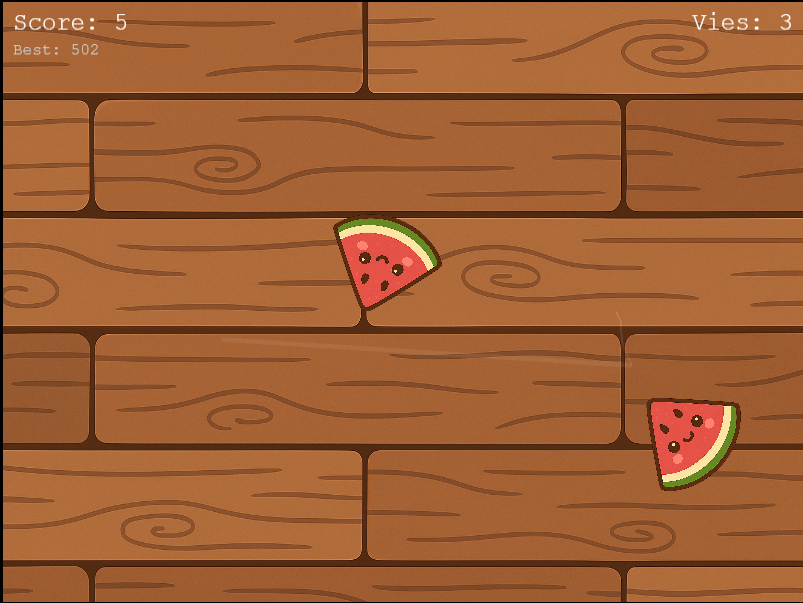fruit: (328, 208, 442, 319), (640, 390, 743, 495)
